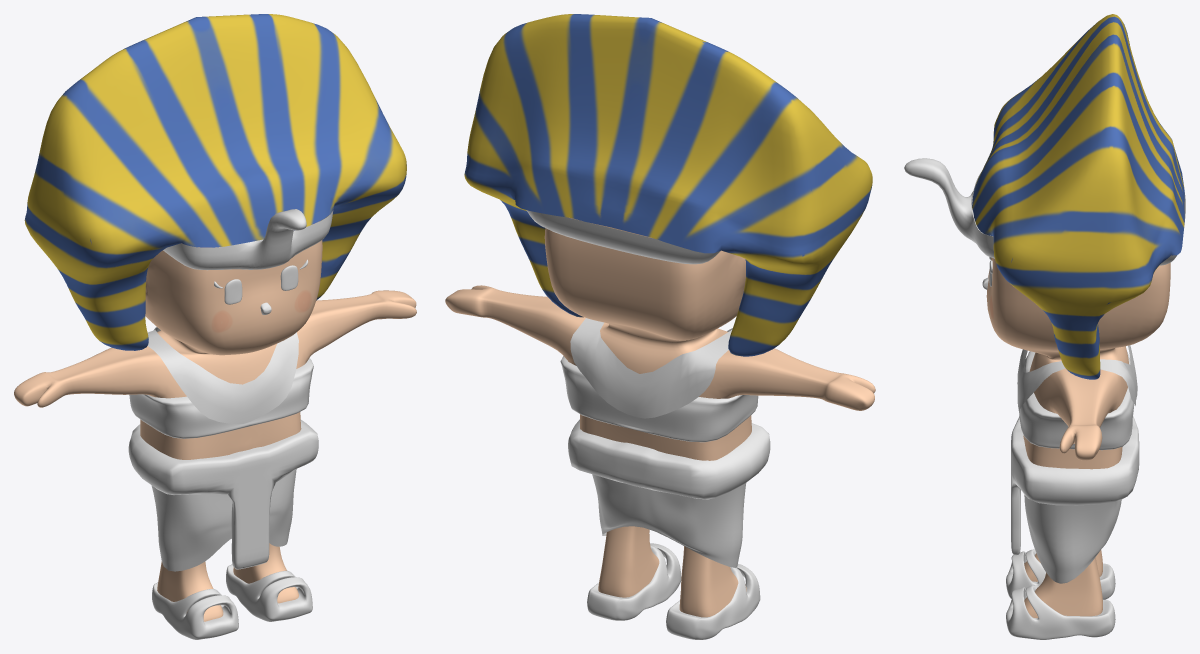
Rendered from chica_egipto.fbx.
3 renders of one model, left to right at view 1: azimuth 30°, elevation 25°; view 2: azimuth 150°, elevation 25°; view 3: azimuth 270°, elevation 25°, orthographic. The views are drawn at different scales.
Parts seen in each view (by area): view 1: Gorro, Cuerpo, Cinturon, Pantalones, Collar, Sandalias, Corona(Gorro), Tela, Ojos; view 2: Gorro, Cuerpo, Cinturon, Pantalones, Collar, Sandalias, Tela, Corona(Gorro); view 3: Gorro, Cuerpo, Cinturon, Pantalones, Sandalias, Tela, Corona(Gorro), Collar.
Boxes of the visible parts, x1,y1,x2,y2 form: Gorro: (24,14,406,350); Cuerpo: (14,221,416,621); Cinturon: (128,419,318,569); Pantalones: (151,469,296,571); Collar: (147,327,298,424); Sandalias: (152,564,312,639); Corona(Gorro): (163,209,333,270); Tela: (129,358,313,438); Ojos: (224,265,298,304); Gorro: (464,14,872,356); Cuerpo: (445,217,875,617); Cinturon: (568,419,770,499); Pantalones: (592,474,746,567); Collar: (570,318,732,418); Sandalias: (587,543,760,639); Tela: (560,356,758,442); Corona(Gorro): (526,210,720,264); Gorro: (972,14,1184,379); Cuerpo: (986,257,1170,618); Cinturon: (1011,416,1139,555); Pantalones: (1024,495,1121,583); Sandalias: (1006,549,1115,639); Tela: (1019,351,1134,450); Corona(Gorro): (904,158,1185,265); Collar: (1017,345,1137,410).
Size of the model in its own units: 202 by 280 by 125.
